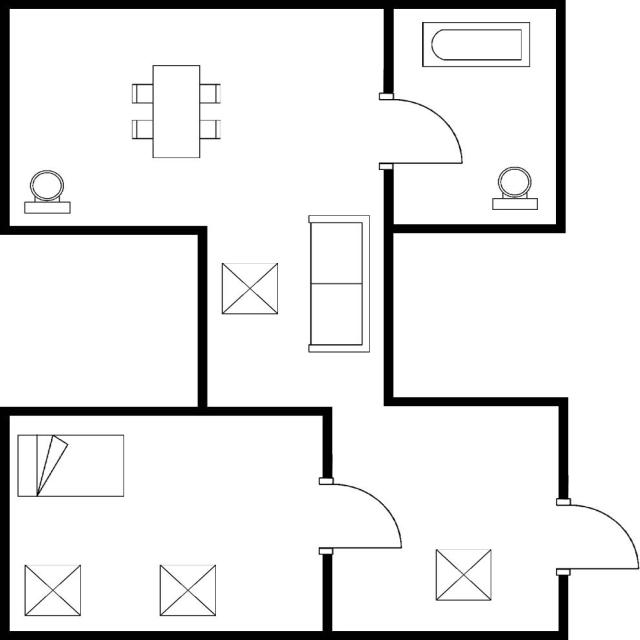bed: (12, 430, 131, 502)
coffee_table: (18, 560, 86, 620), (218, 258, 283, 320), (154, 560, 220, 618), (430, 545, 496, 603)
dining_table: (125, 59, 228, 162)
large_sink: (487, 162, 542, 214), (20, 166, 74, 218)
large_sofa: (302, 209, 374, 359)
tub: (416, 16, 536, 72)
